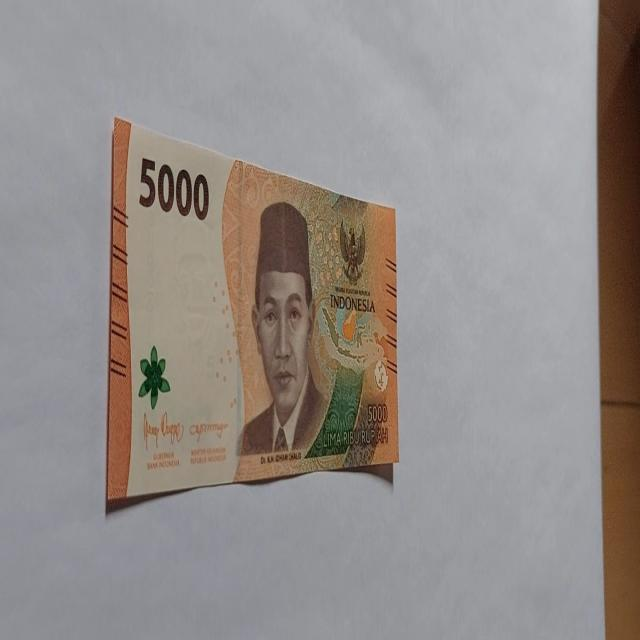lima ribu rupiah: (105, 115, 399, 513), (234, 200, 330, 460)
